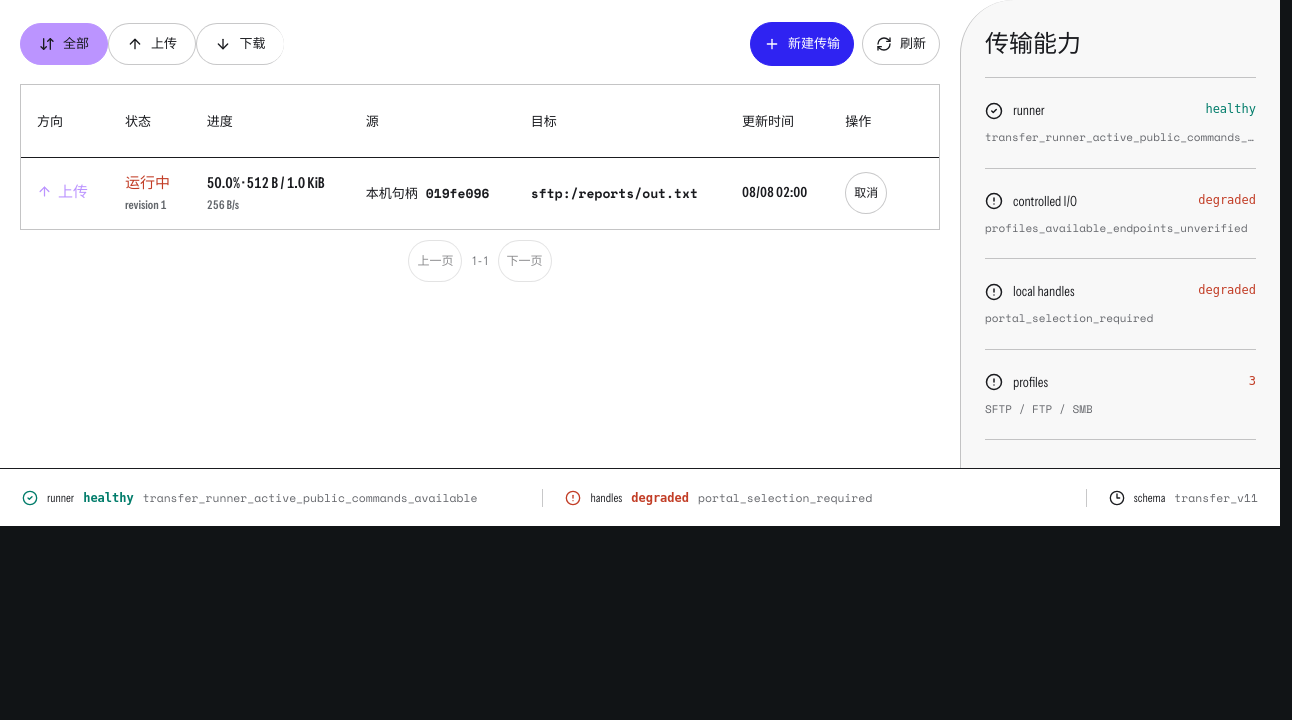
Test case: TransfersView › keeps the last successful queue visible when refresh fails
This screenshot has width=1292, height=720.
Click the button "刷新".
click(901, 44)  # box [862,23,940,65]
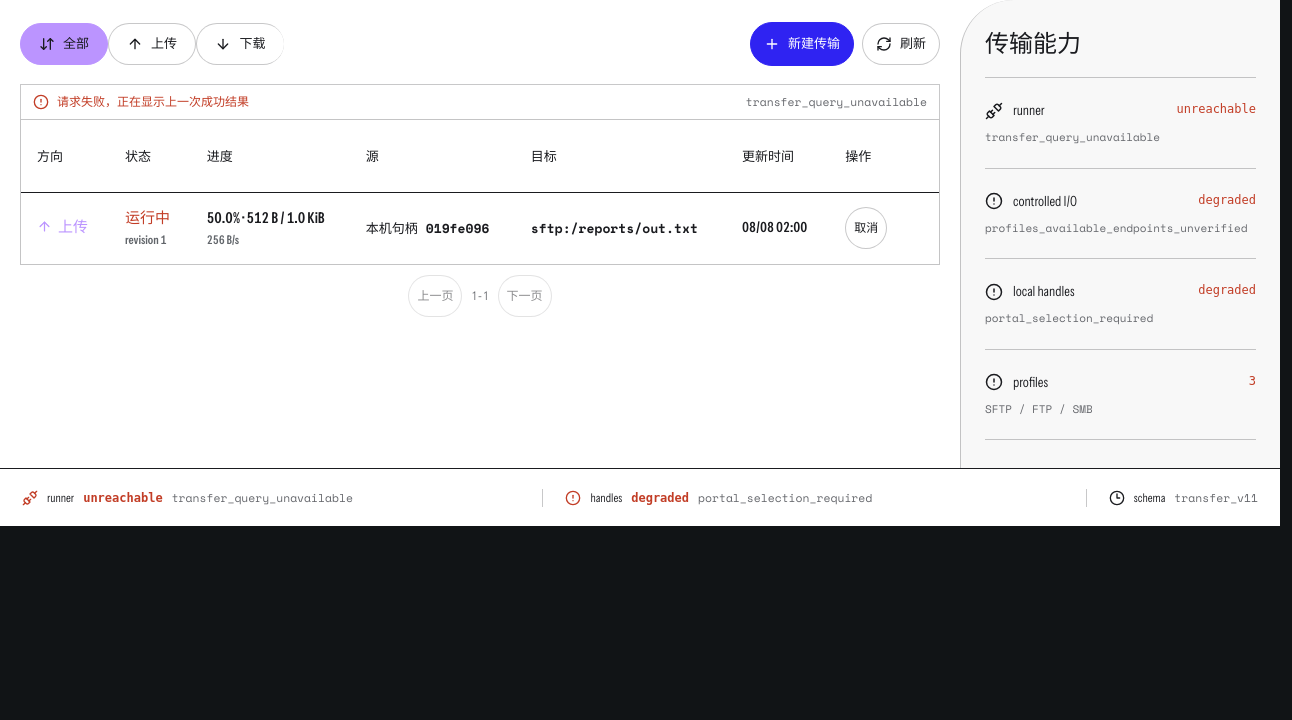
Expected: the text "/reports/out.txt" is shown, [531,218,698,238]
Result: the text "transfer_query_unavailable" is shown at [746,93,927,110]
